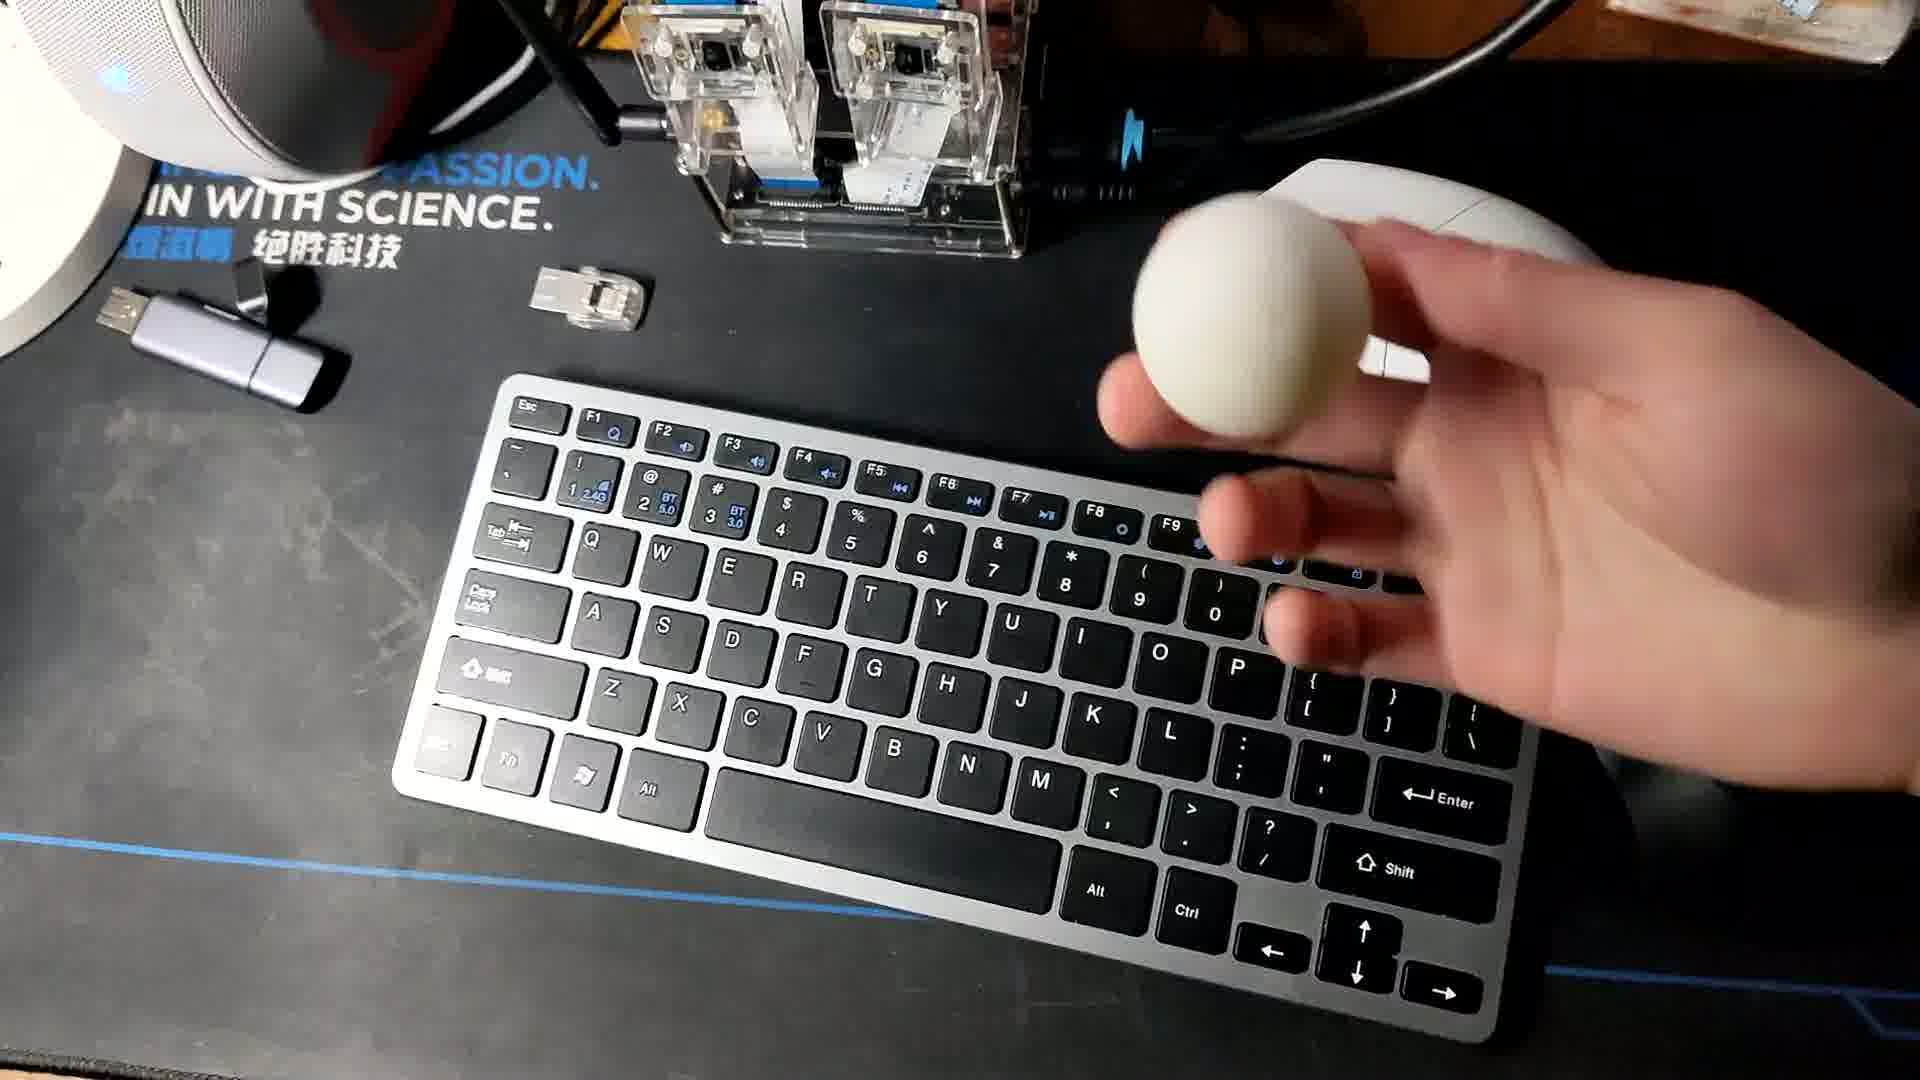Ball: (1133, 196, 1375, 435)
